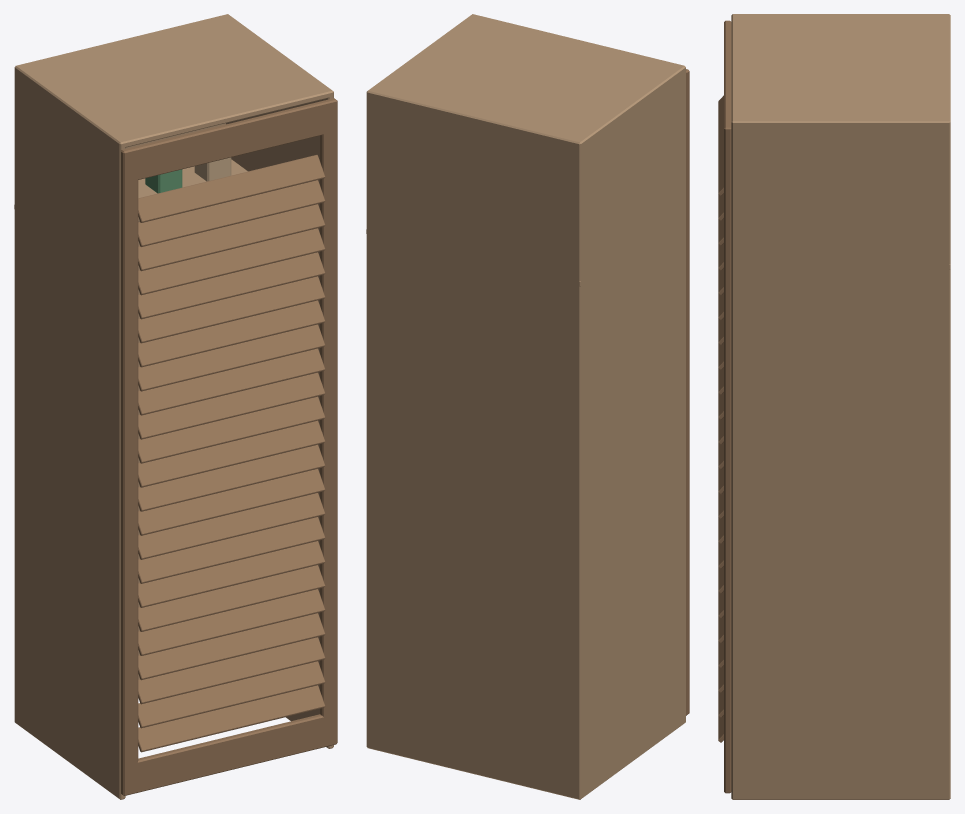
File: pantry.fbx
3 renders of one model, left to right at view 1: azimuth 30°, elevation 25°; view 2: azimuth 150°, elevation 25°; view 3: azimuth 270°, elevation 25°, orthographic. The views are drawn at different scales.
Visible parts, largest first — view 1: Door, Body; view 2: Body, Door; view 3: Body, Door.
Boxes of the visible parts, x1,y1,x2,y2 form: Door: (121, 98, 337, 795); Body: (14, 14, 333, 799); Body: (366, 14, 685, 799); Door: (686, 69, 689, 715); Body: (731, 14, 950, 799); Door: (718, 20, 731, 793).
Bounding box in the file's own units: 0.7 × 2.05 × 0.6358.
